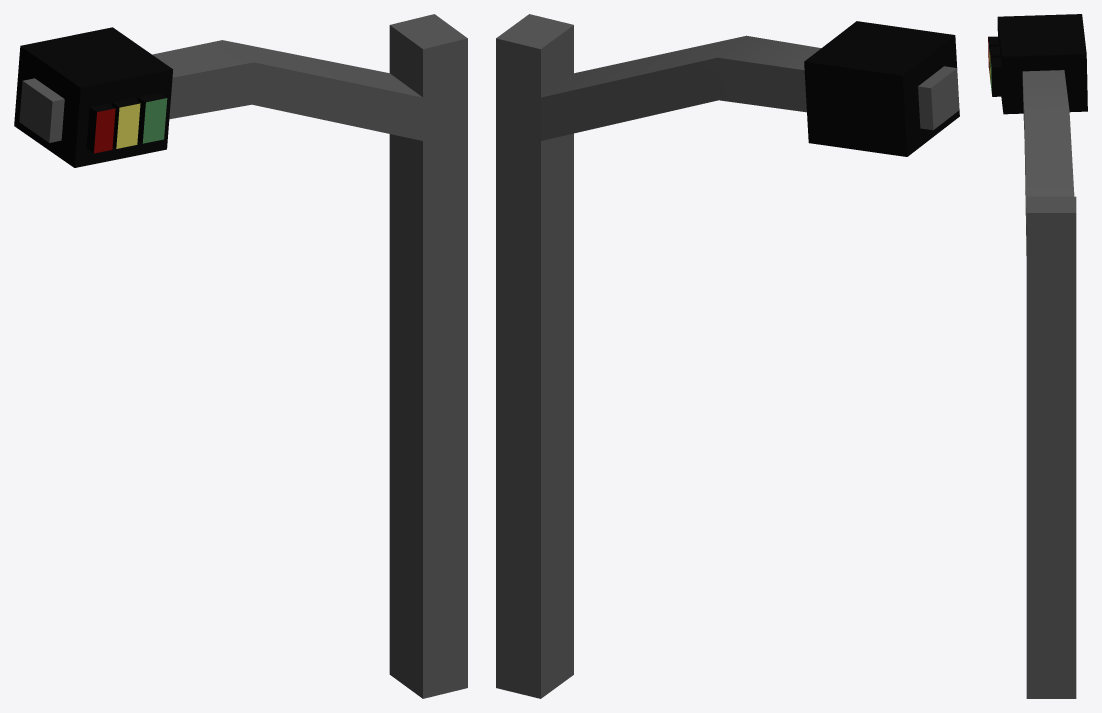
Rendered from Traffic_Light_3.fbx.
3 views of the same model, side by side, from view 1: azimuth 30°, elevation 25°; view 2: azimuth 150°, elevation 25°; view 3: azimuth 270°, elevation 25° (orthographic). The views are drawn at different scales.
Parts seen in each view (by area): view 1: pCube6; view 2: pCube6; view 3: pCube6.
Part boxes in pixels (x1,y1,x2,y2): pCube6: [14, 14, 467, 698]; pCube6: [496, 14, 959, 698]; pCube6: [988, 14, 1087, 698].
Size of the model in its own units: 173 by 277 by 46.91.
